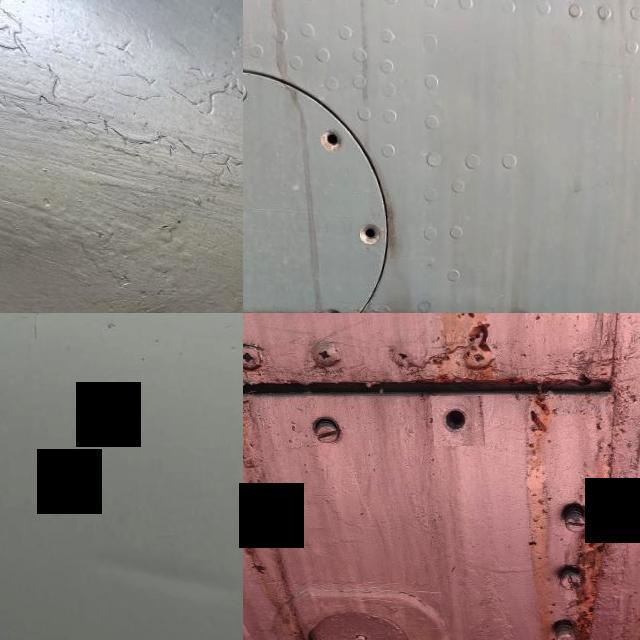Dent: (88, 549, 238, 602)
Missing_Fastener: (428, 396, 481, 446), (306, 120, 358, 166), (344, 212, 391, 258), (302, 290, 352, 313)
